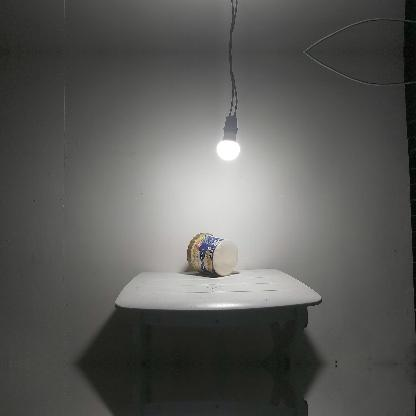Lady-s-Choice: (186, 232, 240, 276)
